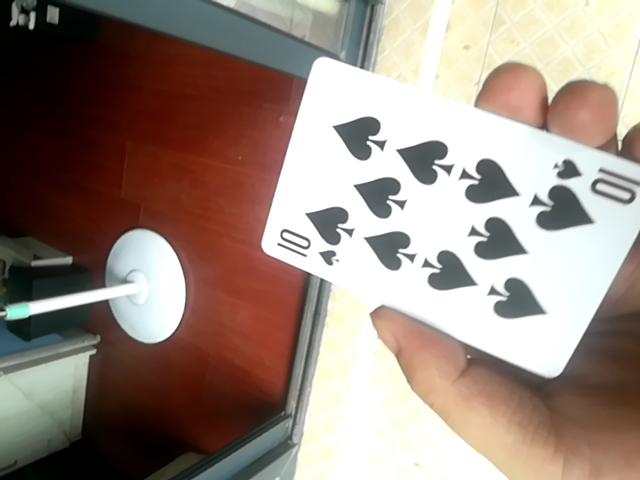ht 10: (260, 52, 640, 387)
